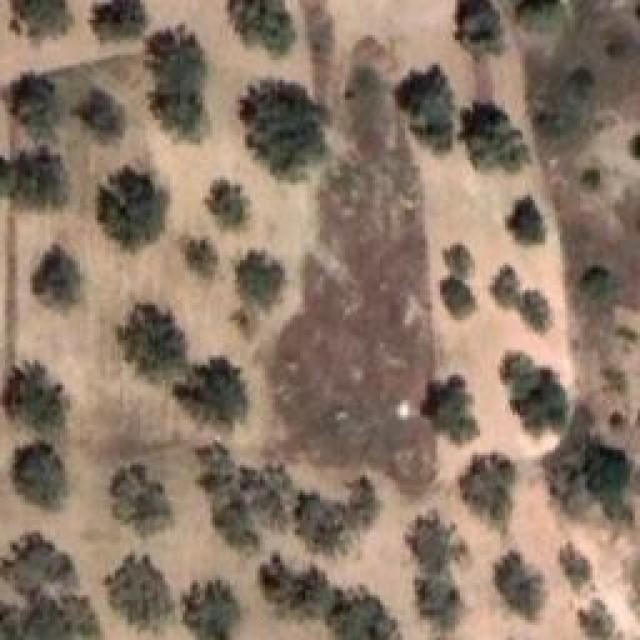Tree: (543, 405, 633, 521), (240, 83, 328, 180), (148, 25, 208, 141), (195, 443, 259, 550), (98, 165, 169, 248), (500, 354, 566, 434), (105, 555, 173, 631), (118, 303, 188, 376), (395, 65, 453, 152), (260, 553, 330, 625), (175, 358, 249, 424), (460, 103, 530, 171), (460, 454, 516, 534), (3, 530, 72, 594), (0, 145, 68, 208), (113, 465, 172, 537), (3, 363, 64, 431), (325, 587, 400, 640), (422, 375, 480, 443), (227, 0, 294, 54), (240, 468, 298, 530), (403, 510, 467, 566), (408, 570, 465, 632), (10, 72, 60, 142), (495, 553, 545, 621), (182, 582, 240, 640), (18, 440, 68, 507), (295, 493, 349, 555), (33, 243, 83, 309), (73, 88, 126, 142), (235, 250, 285, 306), (10, 0, 73, 43), (455, 0, 503, 53), (20, 592, 73, 640), (205, 178, 250, 228), (93, 0, 142, 41), (508, 195, 548, 243), (180, 235, 219, 277), (518, 0, 569, 32), (440, 273, 476, 318), (577, 600, 615, 640), (560, 543, 593, 589), (520, 290, 551, 332), (490, 265, 520, 308), (438, 240, 477, 273), (580, 270, 618, 303), (568, 68, 597, 101), (608, 33, 639, 60), (580, 170, 600, 188)
